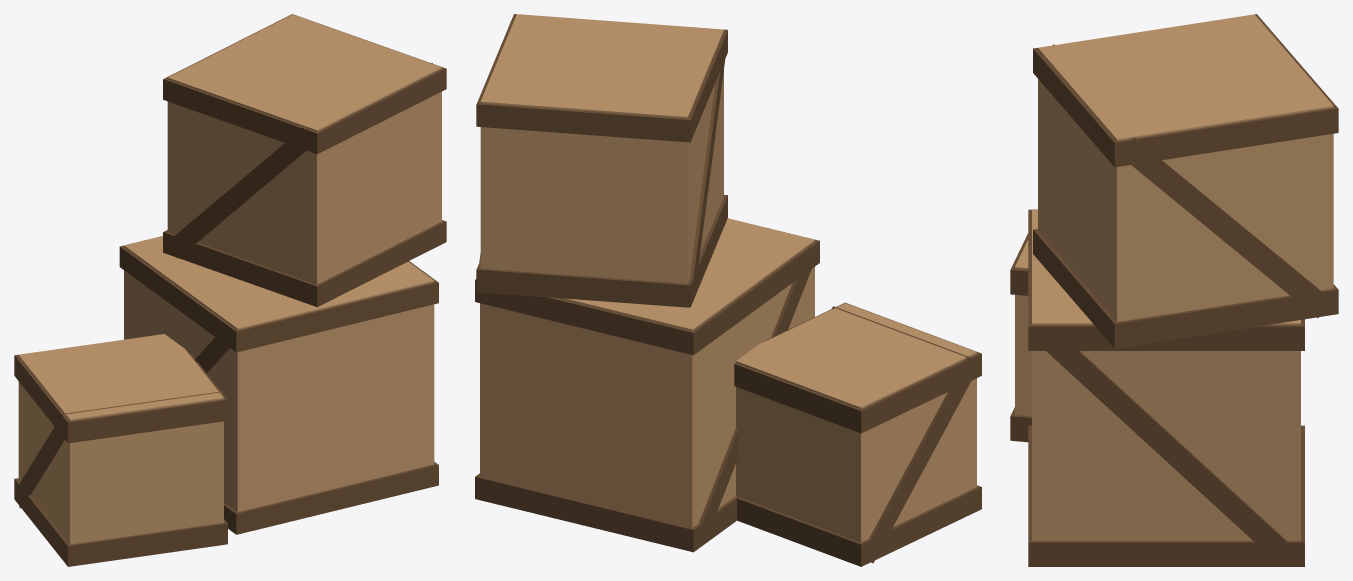
Rendered from Crate_Stack.glb.
The picture shows the model from 3 angles, left to right: view 1: azimuth 30°, elevation 25°; view 2: azimuth 150°, elevation 25°; view 3: azimuth 270°, elevation 25°; orthographic projection. The views are drawn at different scales.
Parts seen in each view (by area): view 1: Crate_Stack; view 2: Crate_Stack; view 3: Crate_Stack.
Boxes of the visible parts, x1,y1,x2,y2 form: Crate_Stack: [14, 14, 446, 566]; Crate_Stack: [475, 14, 981, 566]; Crate_Stack: [1010, 14, 1338, 566].
Size of the model in its own units: 1.44 by 1.3 by 0.854.
Materials: 1 (1 with a texture image).
